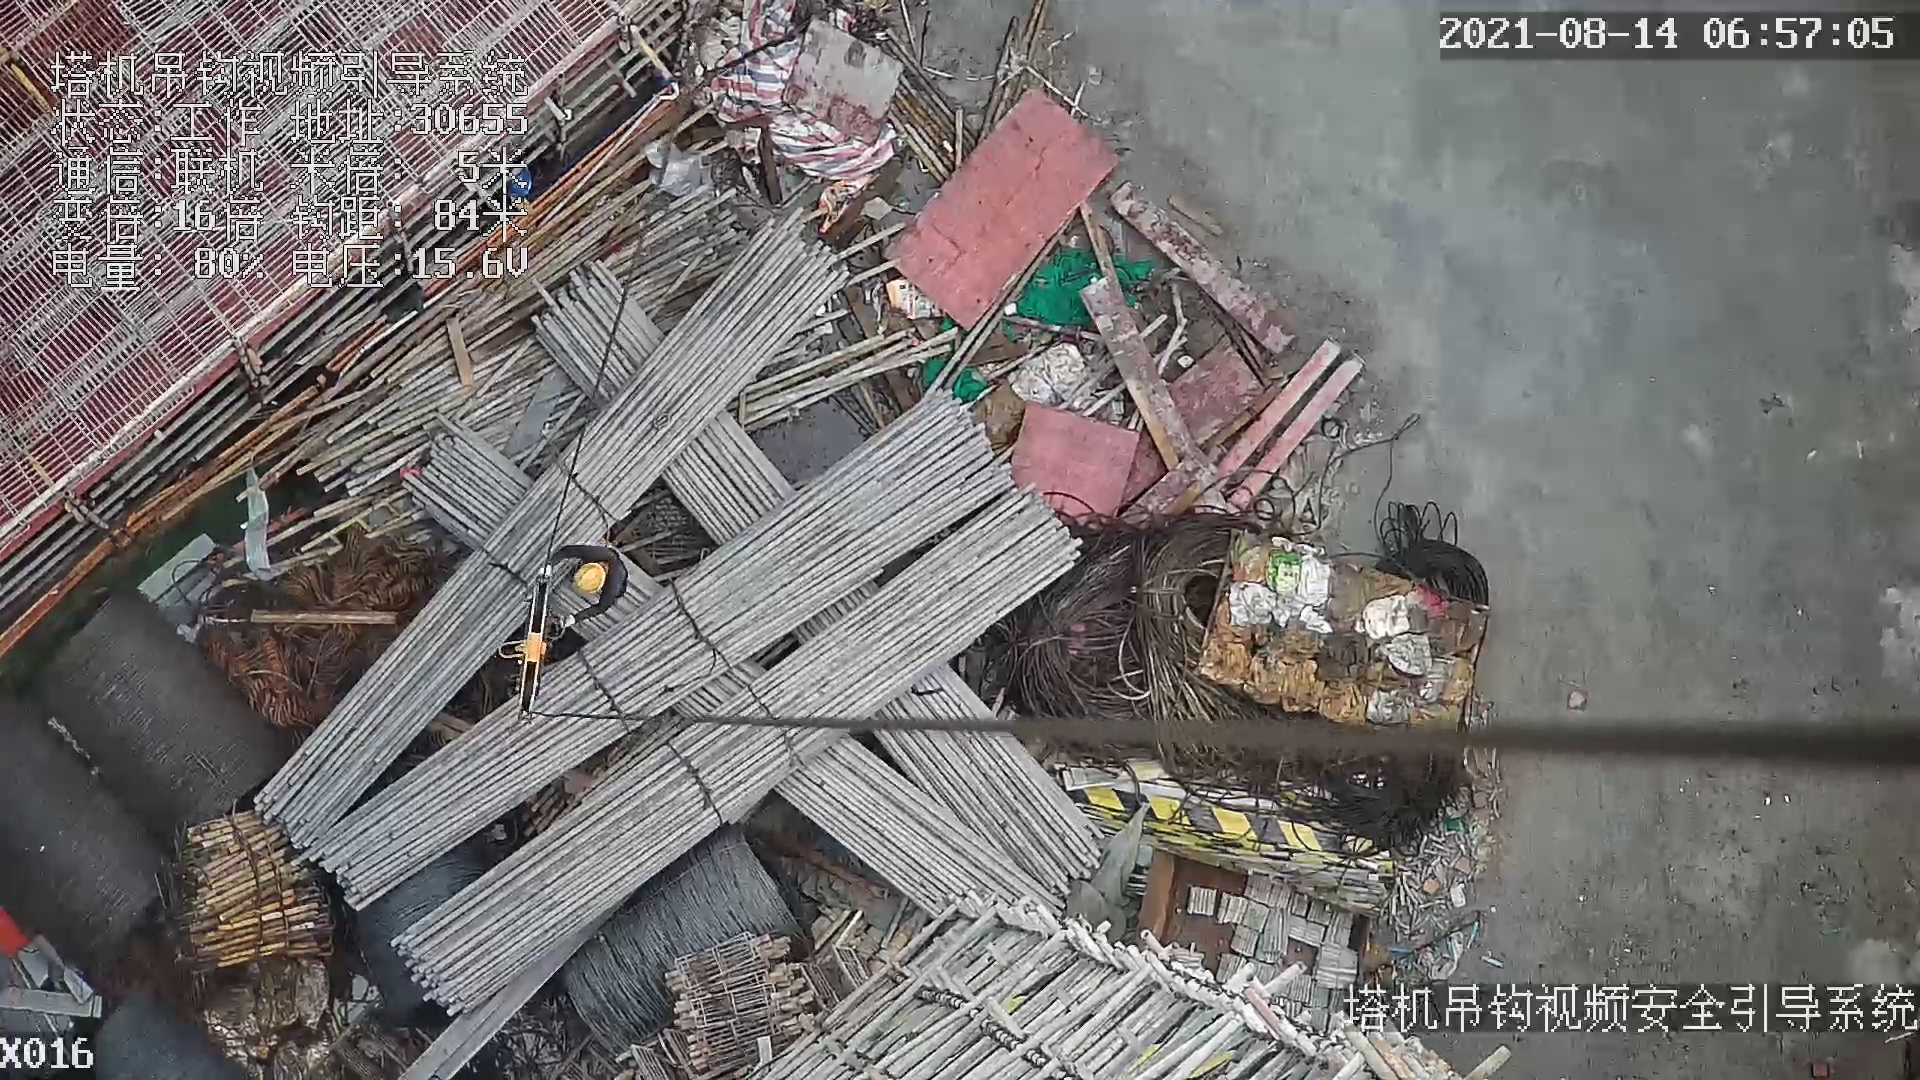helmet: (574, 563, 605, 593)
hook: (501, 567, 554, 721)
person: (545, 541, 628, 626)
rebar: (254, 208, 839, 849), (309, 395, 1016, 915), (398, 491, 1086, 1012), (858, 665, 1105, 904), (777, 730, 1070, 922)
wood: (183, 808, 338, 969)
